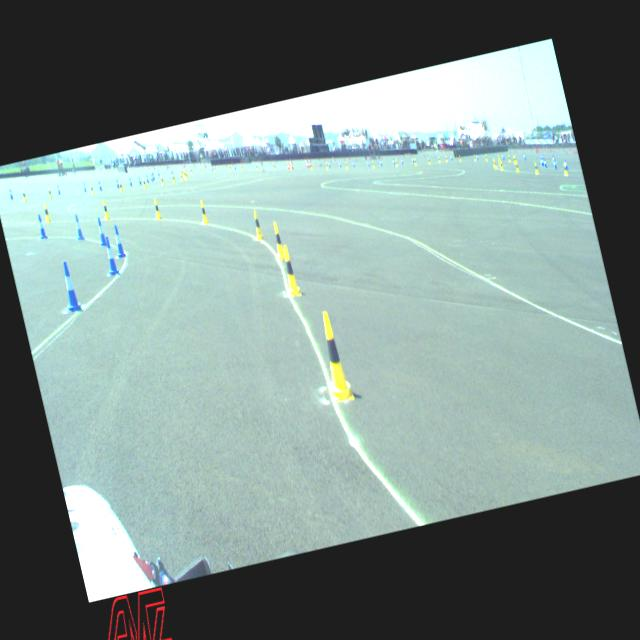blue_cone: (56, 259, 83, 313), (101, 235, 119, 275), (110, 225, 126, 258), (95, 217, 106, 246), (73, 213, 84, 240), (36, 214, 46, 238), (552, 158, 557, 169), (563, 158, 567, 170), (8, 188, 12, 198), (56, 184, 60, 194), (82, 182, 86, 192), (98, 180, 102, 190), (115, 178, 119, 188), (128, 176, 132, 185), (550, 154, 554, 163), (539, 157, 543, 166), (542, 158, 546, 166), (522, 153, 526, 160), (500, 152, 504, 159), (138, 175, 141, 184), (541, 156, 544, 165), (150, 172, 152, 182), (152, 171, 154, 180), (146, 174, 148, 182)
large_orange_cone: (286, 158, 290, 170), (289, 158, 293, 170), (307, 157, 311, 168), (304, 158, 308, 168)
yellow_cone: (314, 310, 354, 403), (278, 244, 301, 297), (270, 220, 286, 260), (250, 209, 264, 240), (198, 200, 208, 223), (152, 198, 162, 220), (101, 200, 109, 220), (42, 203, 50, 222), (47, 186, 52, 198), (562, 162, 567, 174), (89, 183, 94, 194), (533, 162, 538, 173), (514, 162, 519, 172), (118, 180, 122, 192), (22, 190, 26, 200), (160, 175, 164, 185), (498, 160, 502, 170), (492, 160, 497, 168), (142, 178, 146, 188), (179, 172, 183, 181), (498, 157, 502, 166), (171, 174, 175, 182), (513, 155, 517, 163), (507, 154, 511, 162), (325, 160, 328, 170), (185, 170, 188, 179), (414, 158, 416, 165)
